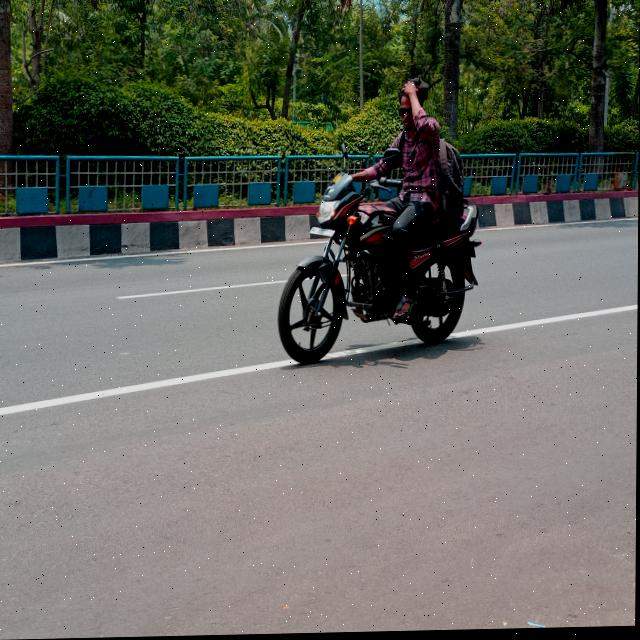bike: (239, 162, 501, 380)
